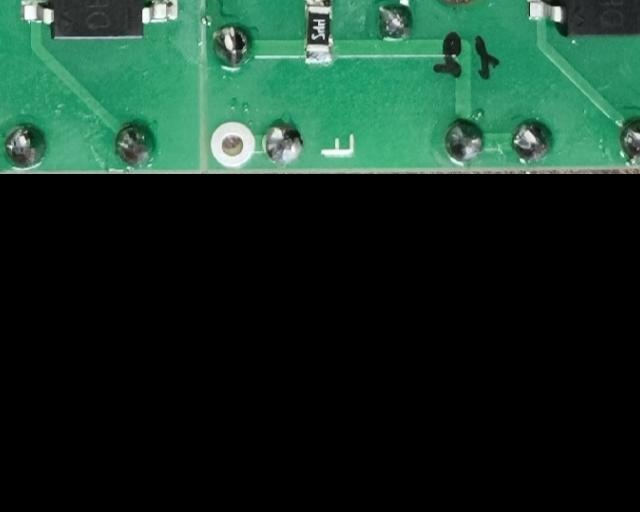chip-resistor: (301, 0, 332, 66)
